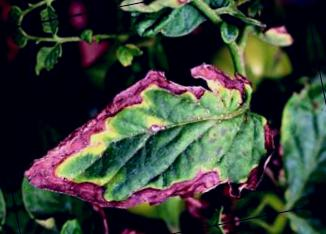Tomato leaf bacterial spot: (7, 47, 282, 234)
